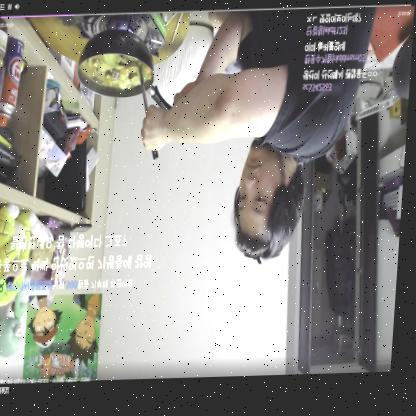donation: (0, 231, 159, 385)
streamer: (136, 9, 377, 271)
